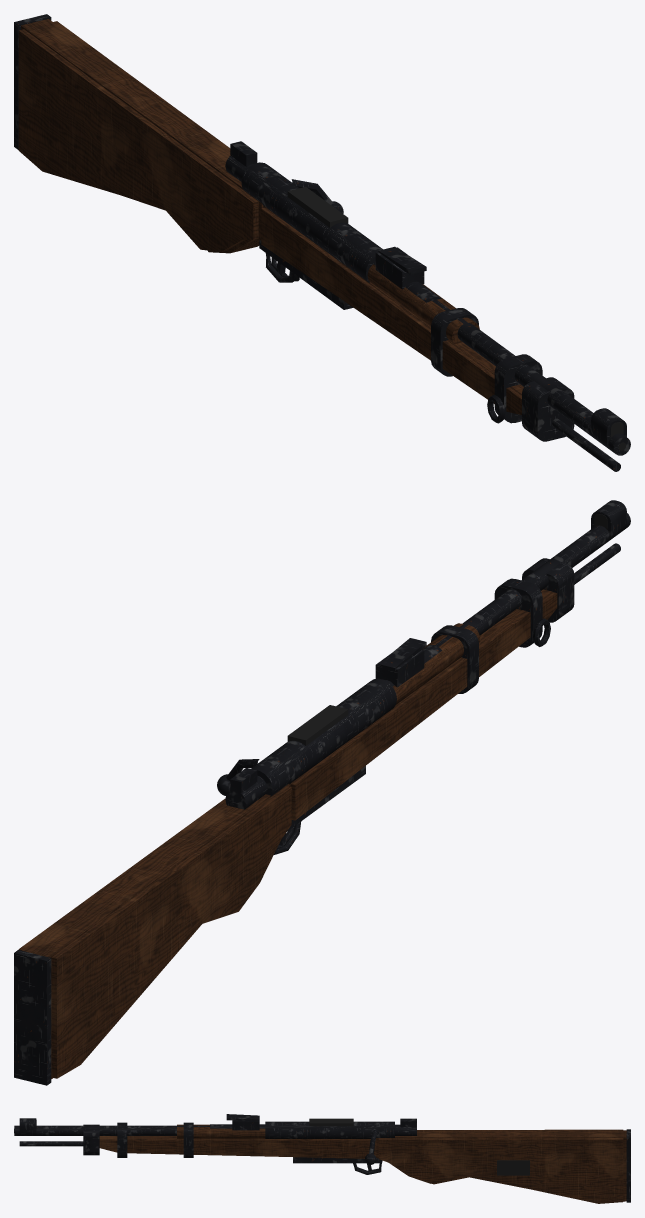
Rendered from kar98k.glb.
The picture shows the model from 3 angles, top to bottom: view 1: azimuth 30°, elevation 25°; view 2: azimuth 150°, elevation 25°; view 3: azimuth 270°, elevation 25°; orthographic projection. The views are drawn at different scales.
Parts seen in each view (by area): view 1: Kar98k; view 2: Kar98k; view 3: Kar98k.
Boxes of the visible parts, x1,y1,x2,y2 form: Kar98k: (14, 14, 630, 471); Kar98k: (14, 500, 630, 1085); Kar98k: (14, 1114, 630, 1203).
Bounding box in the file's own units: 0.0951 × 0.1676 × 1.12.
3 materials, 2 textured.
